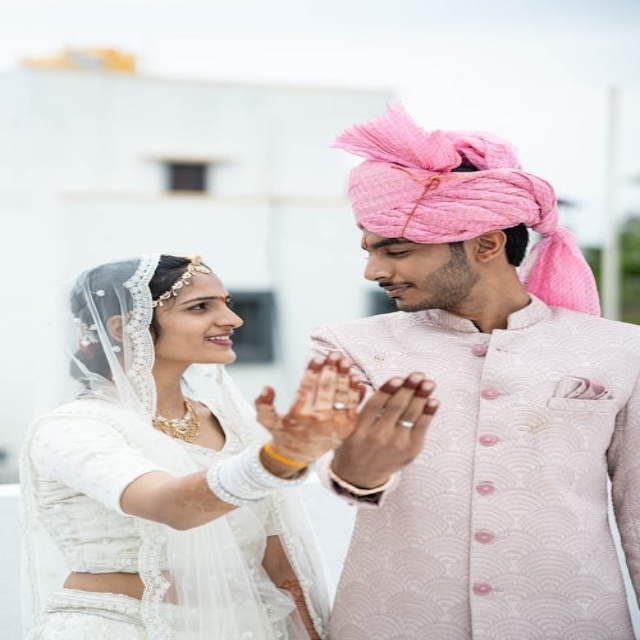Sin_gafas: (353, 236, 438, 265), (166, 291, 236, 318)
Sin_guantes: (251, 347, 379, 465), (328, 370, 440, 487)
Sin_mascara: (178, 327, 244, 364), (372, 280, 440, 310)
